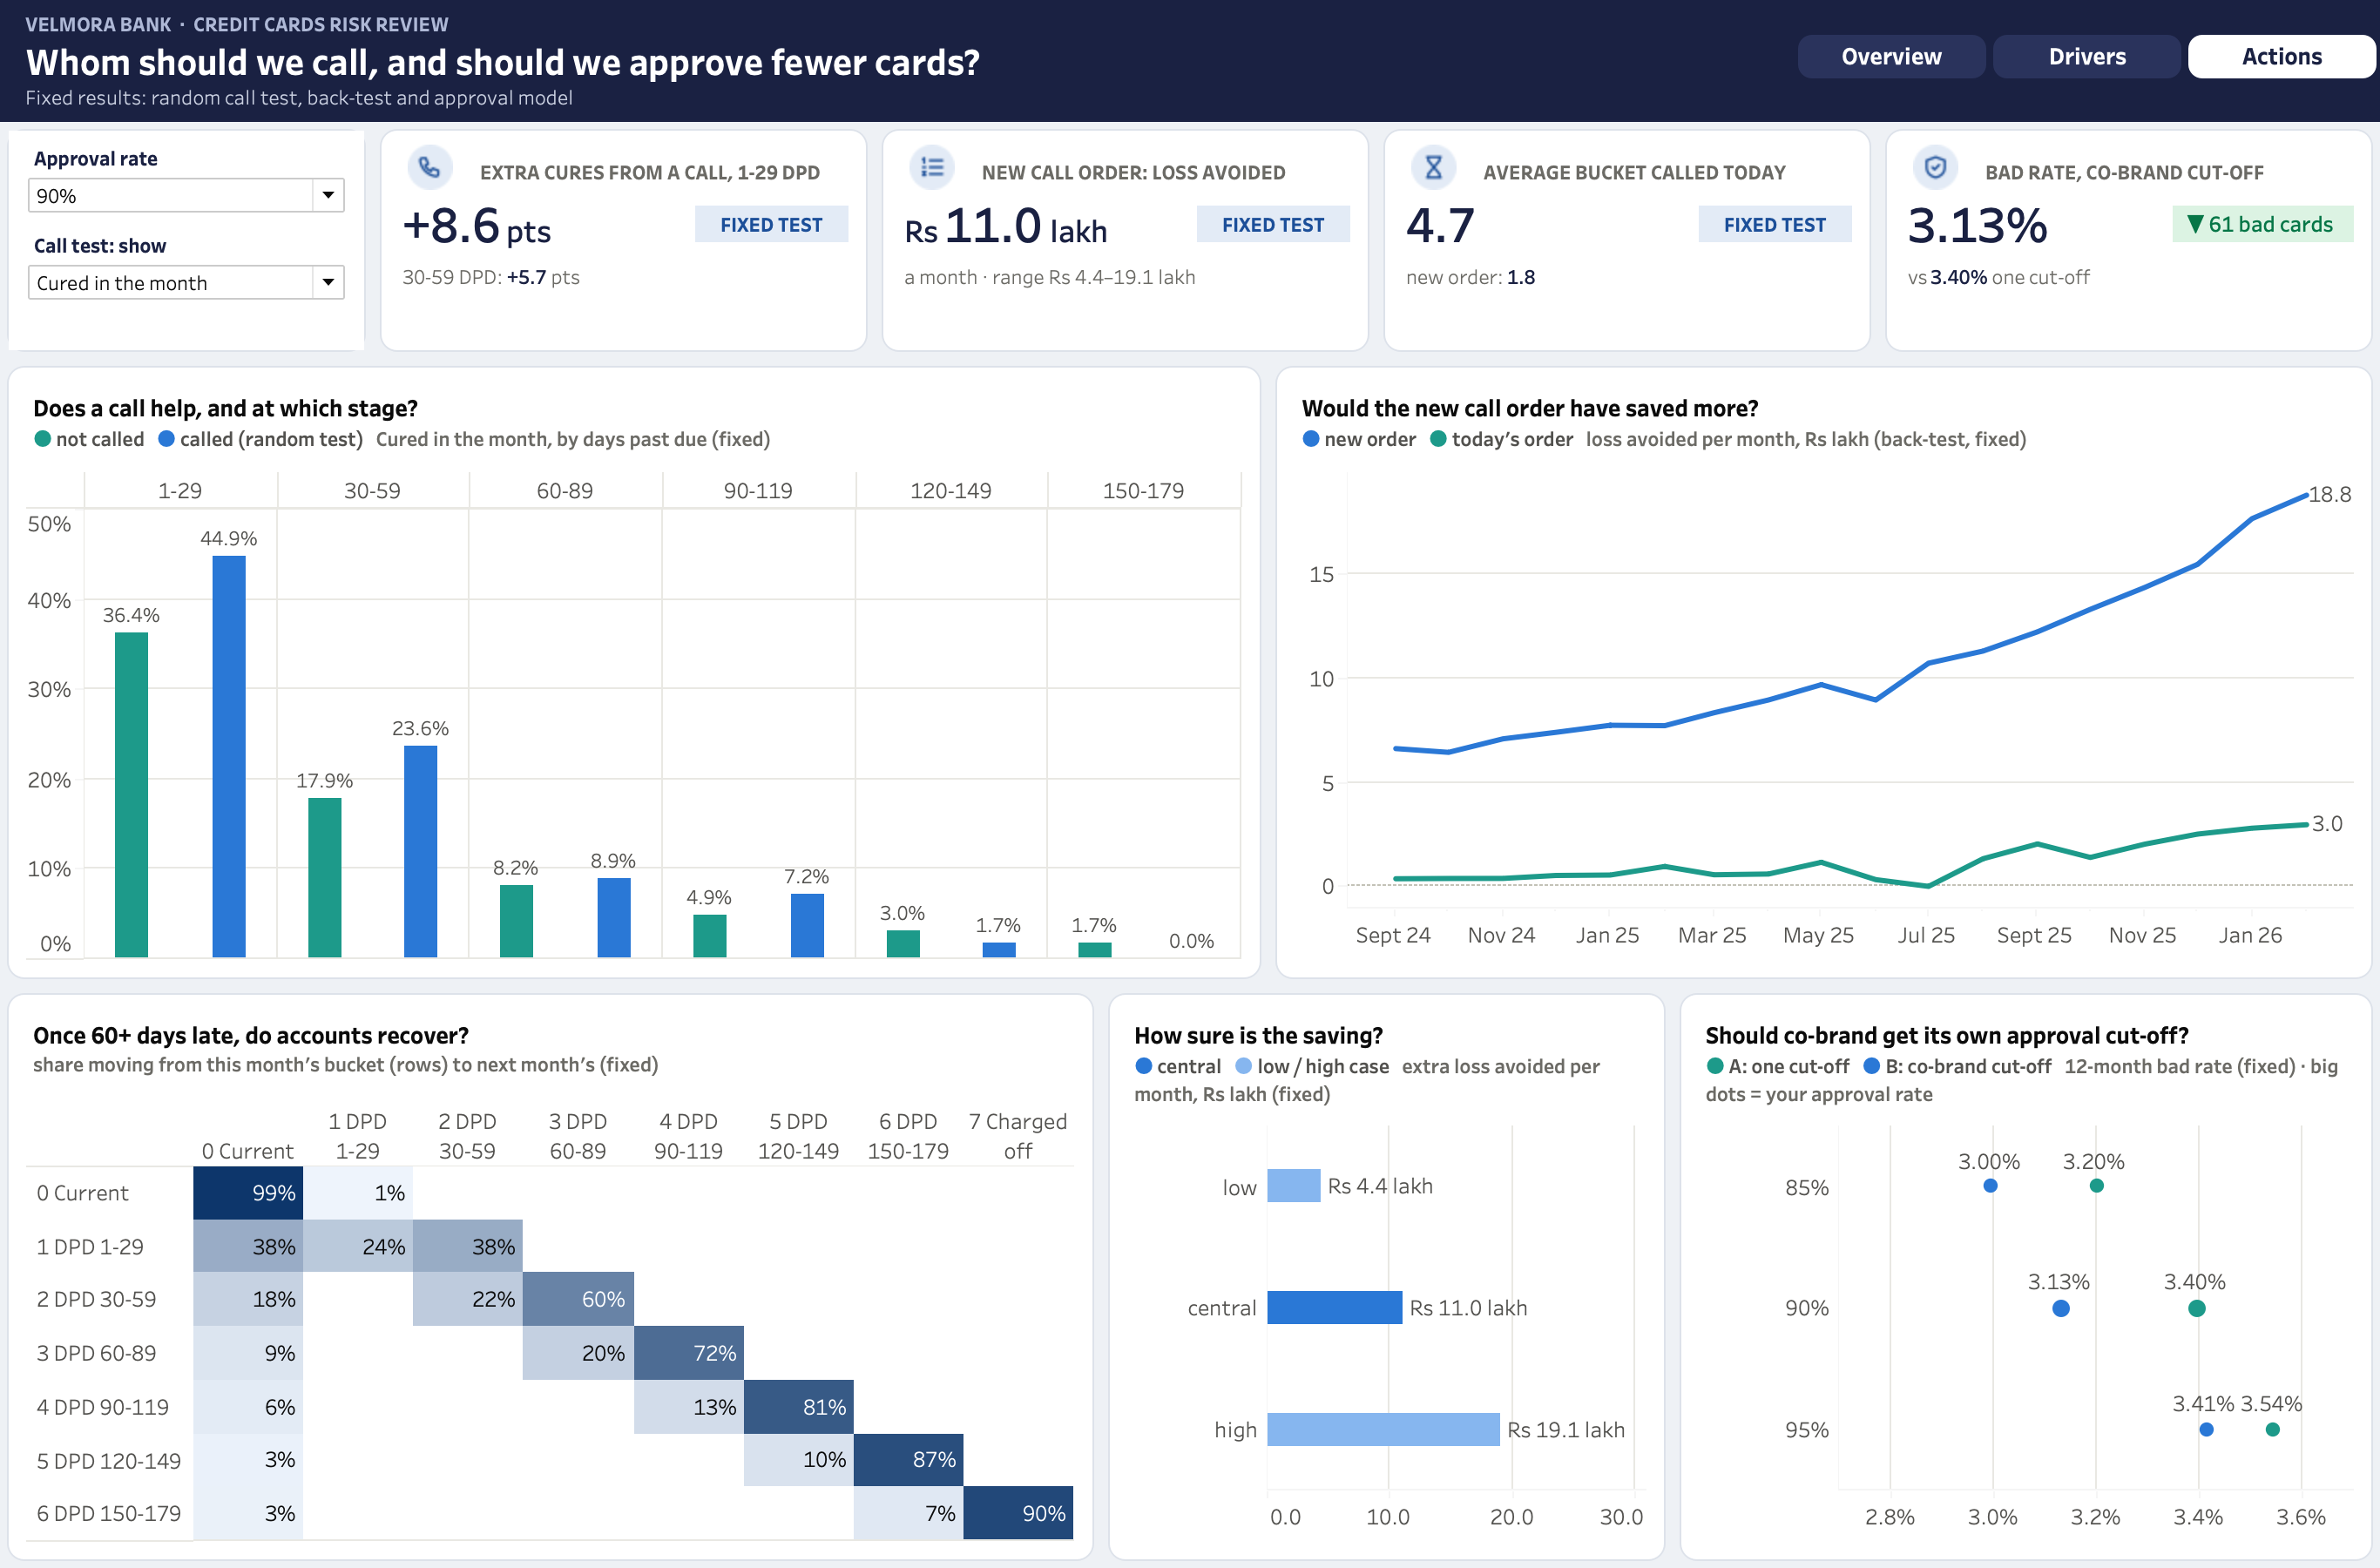

What the dashboard file says about the page in this screenshot:
{"tool":"tableau","page":{"name":"Actions","canvas":[1366,900],"ordinal":2},"visuals":[{"type":"text","box":[4,4,1022,70]},{"type":"blank","box":[1026,4,336,18]},{"type":"dashboard-object","box":[1026,22,108,34]},{"type":"dashboard-object","box":[1134,22,108,34]},{"type":"dashboard-object","box":[1242,22,108,34]},{"type":"blank","box":[1026,56,336,18]},{"type":"text","box":[4,74,206,24]},{"type":"image","param":"/Users/vishalparmar/Desktop/Data-analyst/data_analysis_projects/finance/projects","box":[210,74,36,34]},{"type":"text","box":[246,74,252,34]},{"type":"image","param":"/Users/vishalparmar/Desktop/Data-analyst/data_analysis_projects/finance/projects","box":[498,74,36,34]},{"type":"text","box":[534,74,252,34]},{"type":"image","param":"/Users/vishalparmar/Desktop/Data-analyst/data_analysis_projects/finance/projects","box":[786,74,36,34]},{"type":"text","box":[822,74,252,34]},{"type":"image","param":"/Users/vishalparmar/Desktop/Data-analyst/data_analysis_projects/finance/projects","box":[1074,74,36,34]},{"type":"text","box":[1110,74,252,34]},{"type":"parameter","param":"[Parameters].[Approval rate]","box":[4,98,206,28]},{"type":"worksheet","title":"A V cures","mark":"Text","box":[210,108,200,40]},{"type":"text","box":[410,108,88,40]},{"type":"worksheet","title":"A V call order","mark":"Text","box":[498,108,200,40]},{"type":"text","box":[698,108,88,40]},{"type":"worksheet","title":"A V bucket","mark":"Text","box":[786,108,200,40]},{"type":"text","box":[986,108,88,40]},{"type":"worksheet","title":"A V bad rate","mark":"Text","box":[1074,108,184,40]},{"type":"worksheet","title":"A B bad rate","mark":"Bar","cols":["One"],"box":[1258,108,104,40]},{"type":"text","box":[4,126,206,24]},{"type":"worksheet","title":"A C cures","mark":"Text","box":[210,148,288,22]},{"type":"worksheet","title":"A C call order","mark":"Text","box":[498,148,288,22]},{"type":"worksheet","title":"A C bucket","mark":"Text","box":[786,148,288,22]},{"type":"worksheet","title":"A C bad rate","mark":"Text","box":[1074,148,288,22]},{"type":"parameter","param":"[Parameters].[Call test: show]","box":[4,150,206,28]},{"type":"blank","box":[210,170,288,40]},{"type":"blank","box":[498,170,288,40]},{"type":"blank","box":[786,170,288,40]},{"type":"blank","box":[1074,170,288,40]},{"type":"blank","box":[4,178,206,32]},{"type":"worksheet","title":"A Call effect","mark":"Bar","cols":["DPD band"],"box":[4,210,720,360]},{"type":"worksheet","title":"A Back-test","mark":"Line","rows":["Loss avoided lakh"],"cols":["month"],"box":[724,210,638,360]},{"type":"worksheet","title":"A Roll rates","mark":"Square","rows":["from_name"],"cols":["to_name"],"box":[4,570,624,326]},{"type":"worksheet","title":"A Value range","mark":"Bar","rows":["case"],"cols":["Range lakh"],"box":[628,570,320,326]},{"type":"worksheet","title":"A Trade-off","mark":"Circle","rows":["approval_target"],"box":[948,570,414,326]}]}

Visuals, with their boxes in screenshot pixels (x1, y1, x2, y2), scaled from the page's 1366x900 canvas onto the 2380x1568 screenshot:
text: Rect(7, 7, 1788, 129)
blank: Rect(1788, 7, 2373, 38)
dashboard-object: Rect(1788, 38, 1976, 98)
dashboard-object: Rect(1976, 38, 2164, 98)
dashboard-object: Rect(2164, 38, 2352, 98)
blank: Rect(1788, 98, 2373, 129)
text: Rect(7, 129, 366, 171)
image: Rect(366, 129, 429, 188)
text: Rect(429, 129, 868, 188)
image: Rect(868, 129, 930, 188)
text: Rect(930, 129, 1369, 188)
image: Rect(1369, 129, 1432, 188)
text: Rect(1432, 129, 1871, 188)
image: Rect(1871, 129, 1934, 188)
text: Rect(1934, 129, 2373, 188)
parameter: Rect(7, 171, 366, 220)
"A V cures" worksheet (Text marks): Rect(366, 188, 714, 258)
text: Rect(714, 188, 868, 258)
"A V call order" worksheet (Text marks): Rect(868, 188, 1216, 258)
text: Rect(1216, 188, 1369, 258)
"A V bucket" worksheet (Text marks): Rect(1369, 188, 1718, 258)
text: Rect(1718, 188, 1871, 258)
"A V bad rate" worksheet (Text marks): Rect(1871, 188, 2192, 258)
"A B bad rate" worksheet (Bar marks): Rect(2192, 188, 2373, 258)
text: Rect(7, 220, 366, 261)
"A C cures" worksheet (Text marks): Rect(366, 258, 868, 296)
"A C call order" worksheet (Text marks): Rect(868, 258, 1369, 296)
"A C bucket" worksheet (Text marks): Rect(1369, 258, 1871, 296)
"A C bad rate" worksheet (Text marks): Rect(1871, 258, 2373, 296)
parameter: Rect(7, 261, 366, 310)
blank: Rect(366, 296, 868, 366)
blank: Rect(868, 296, 1369, 366)
blank: Rect(1369, 296, 1871, 366)
blank: Rect(1871, 296, 2373, 366)
blank: Rect(7, 310, 366, 366)
"A Call effect" worksheet (Bar marks): Rect(7, 366, 1261, 993)
"A Back-test" worksheet (Line marks): Rect(1261, 366, 2373, 993)
"A Roll rates" worksheet (Square marks): Rect(7, 993, 1094, 1561)
"A Value range" worksheet (Bar marks): Rect(1094, 993, 1652, 1561)
"A Trade-off" worksheet (Circle marks): Rect(1652, 993, 2373, 1561)
